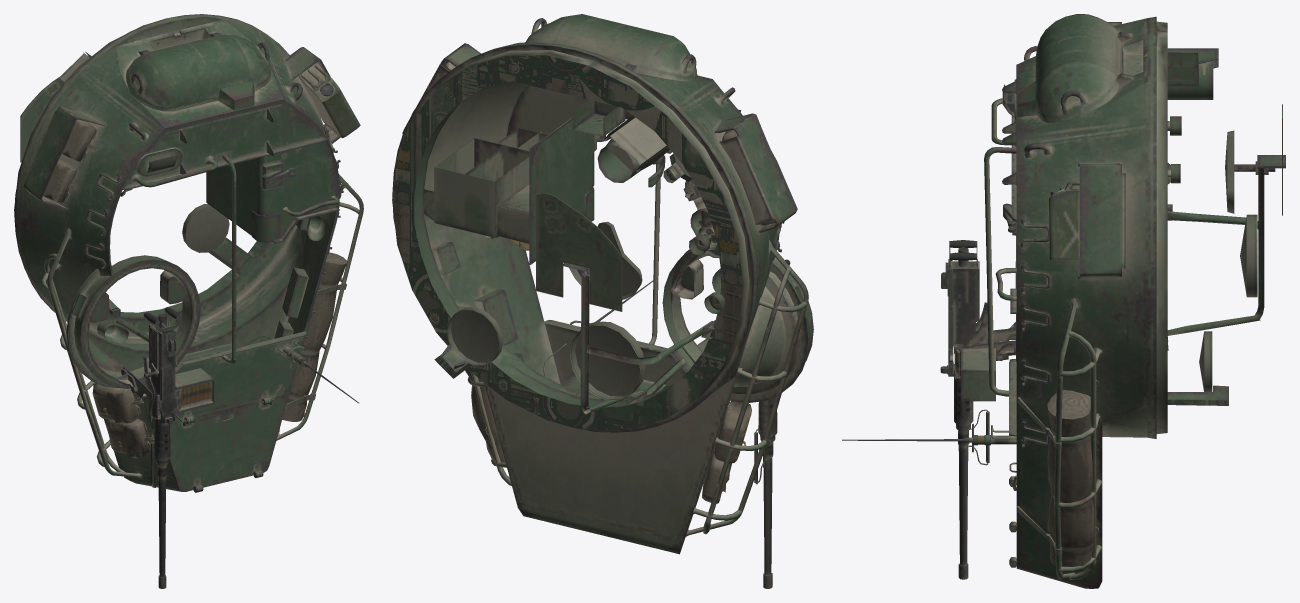
Rendered from Turret_01.glb.
3 renders of one model, left to right at view 1: azimuth 30°, elevation 25°; view 2: azimuth 150°, elevation 25°; view 3: azimuth 270°, elevation 25°, orthographic. The views are drawn at different scales.
Parts seen in each view (by area): view 1: set_0_group_0; view 2: set_0_group_0; view 3: set_0_group_0.
Boxes of the visible parts, x1,y1,x2,y2 form: set_0_group_0: (14, 14, 363, 588); set_0_group_0: (392, 14, 813, 588); set_0_group_0: (842, 14, 1285, 588).
Bounding box in the file's own units: 2.18 × 3.22 × 2.19.
1 material, 1 textured.
